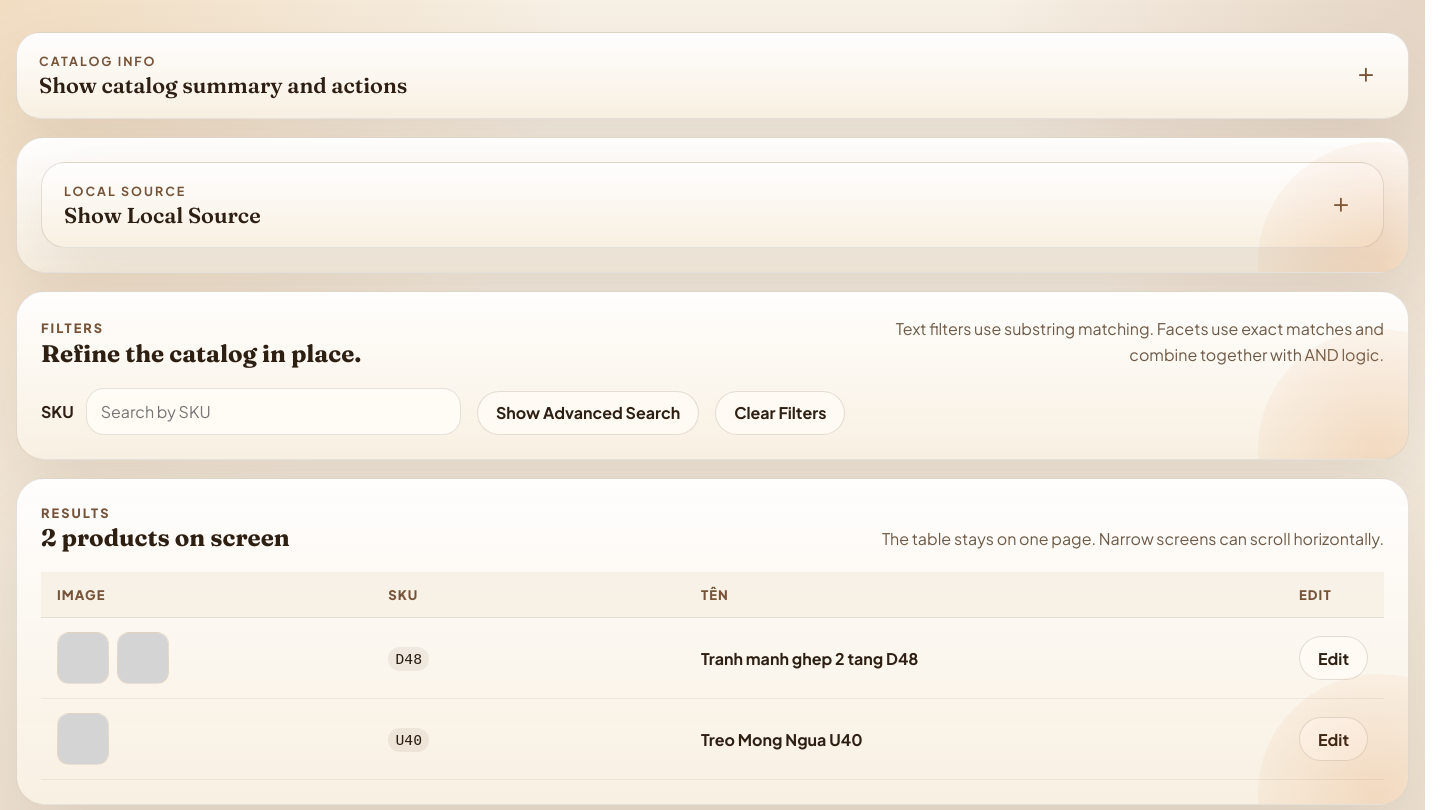
Test: App › opens the row editor, shows image thumbnails beside each URL, and saves the edited product back into the table
This screenshot has width=1440, height=810.
Click the button "Local Source Show Local Source +" at (125, 191), box [41,162,1384,248]
(page scrolled)
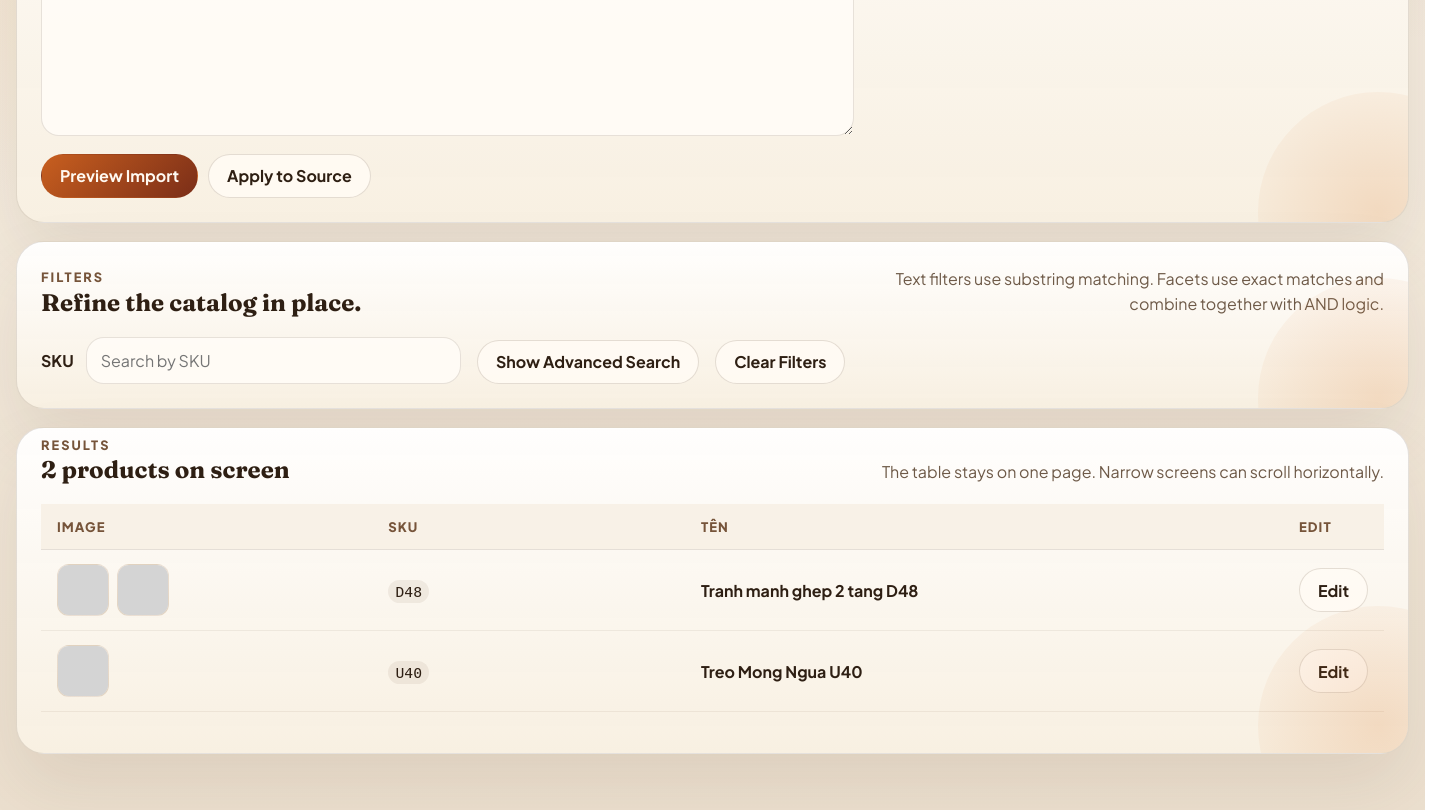
Click the button with aria-label "Edit product D48" at (1334, 590), box [1299,568,1368,612]
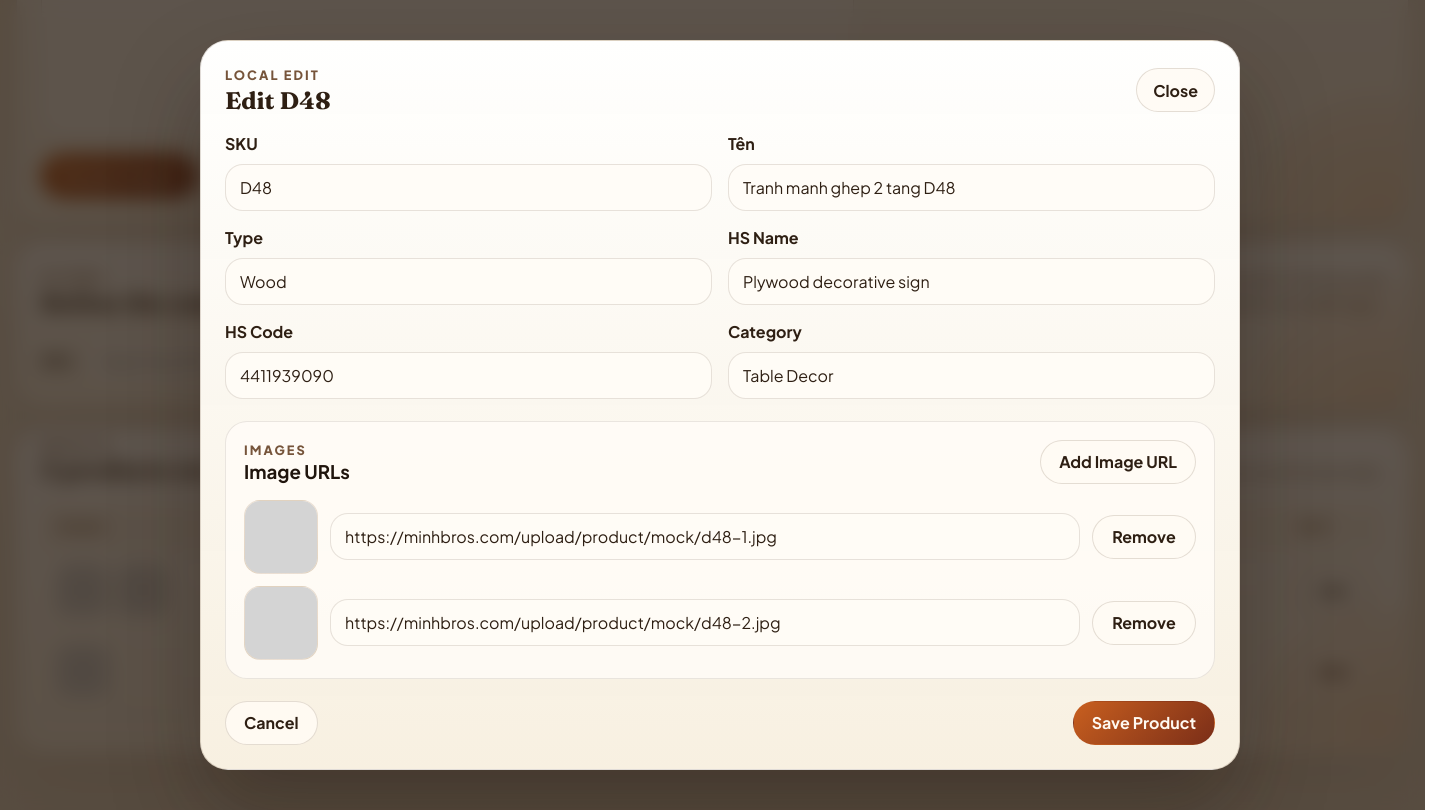
Result: the dialog named "edit tranh manh ghep 2 tang d48" is shown
Replace the text in the field labelled "SKU" with "D48-UPDATED" at (468, 187), box [225,164,712,211]
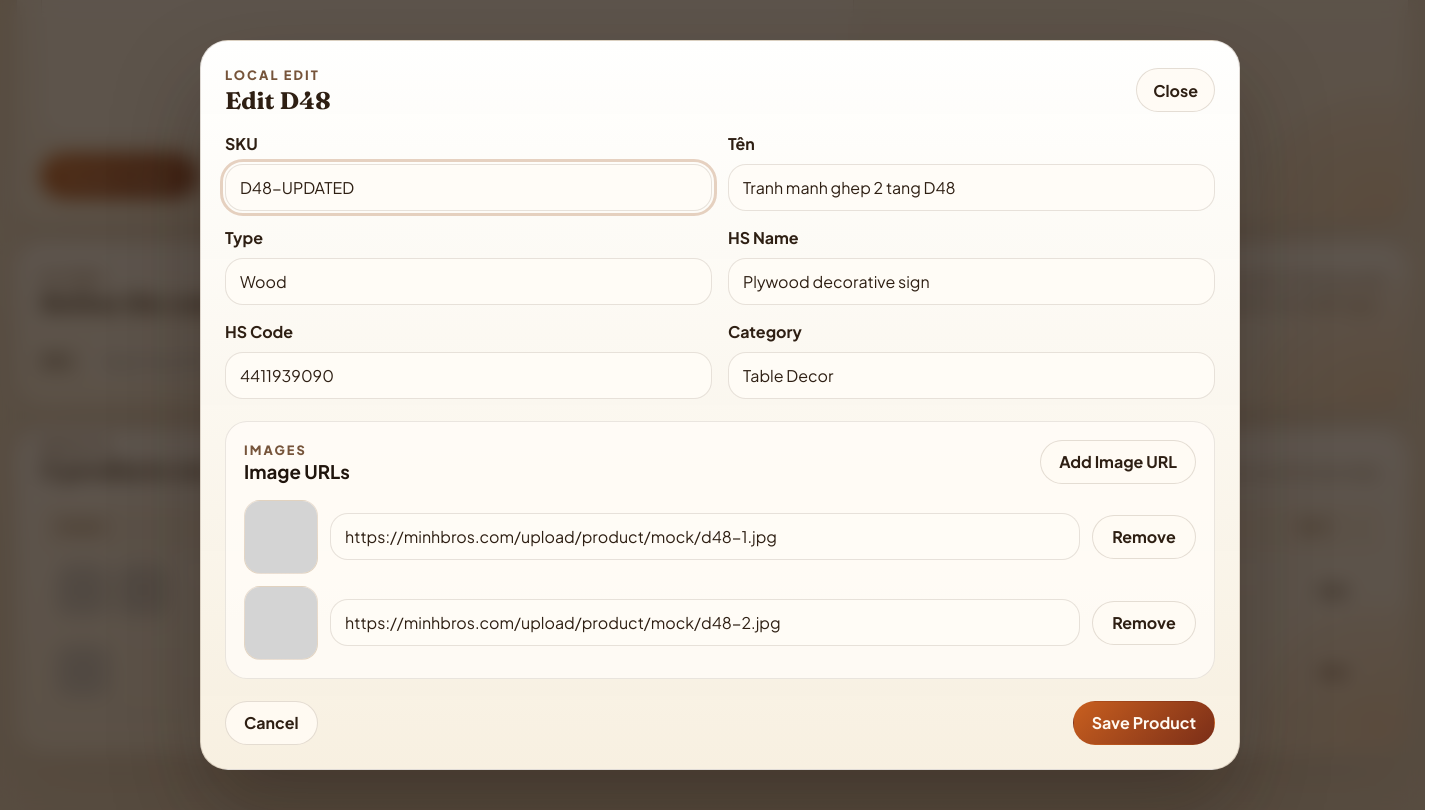
Replace the text in the field labelled "Tên" with "Edited D48 Product" at (972, 187), box [728,164,1215,211]
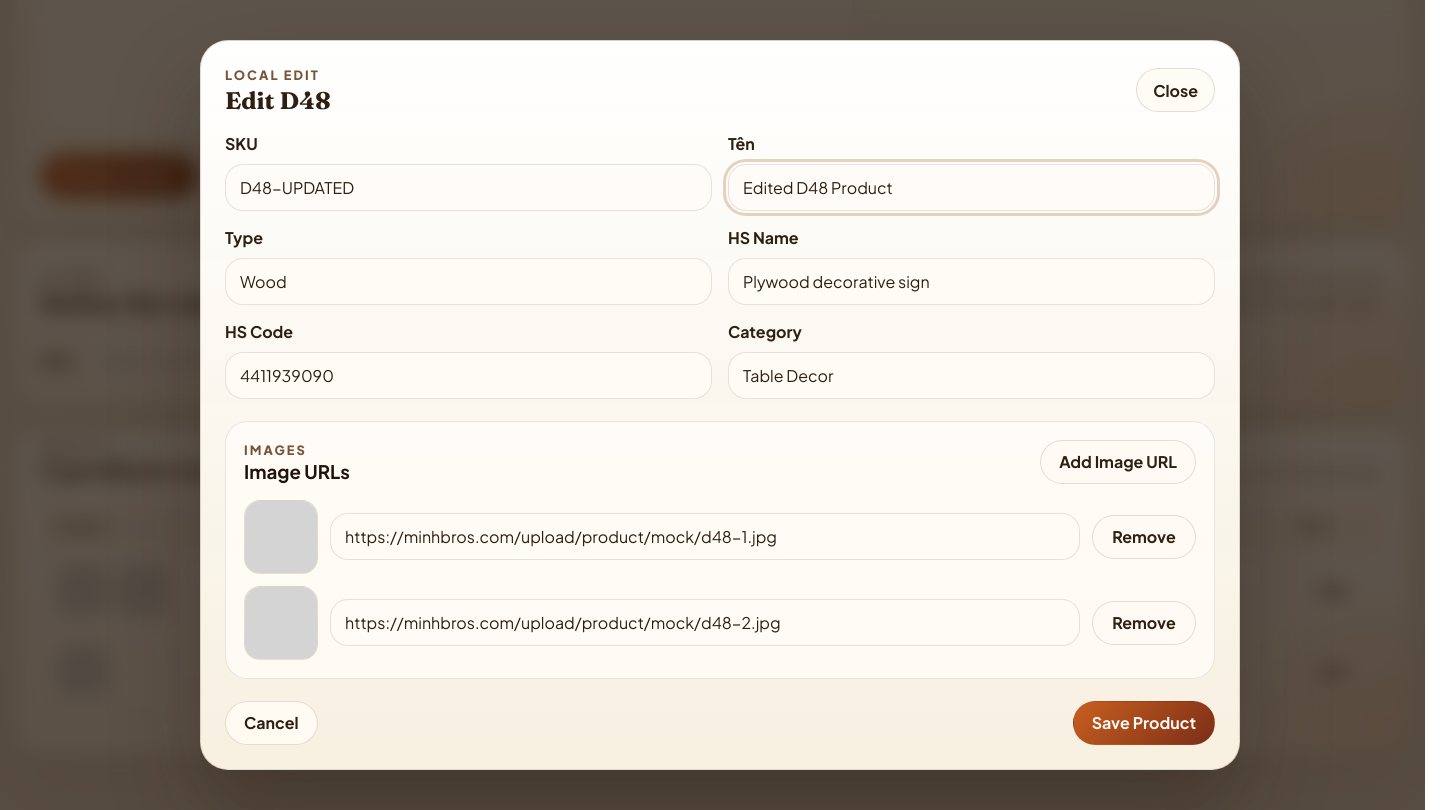
Replace the text in the field named "Image URL 1" with "https://minhbros.com/upload/product/mock/d48-edited-1.jpg" at (705, 537), box [330,513,1080,560]
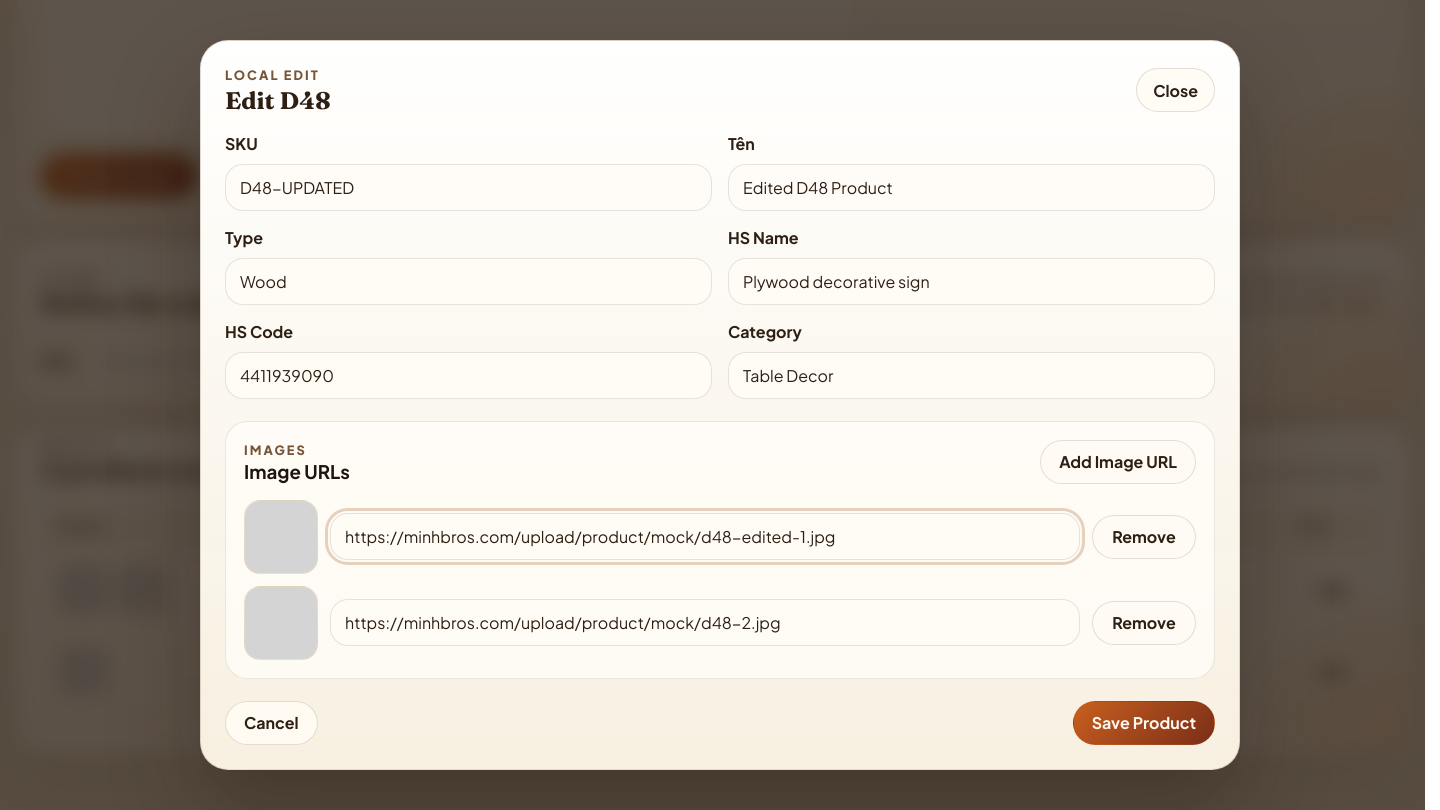
Click the button "Save Product" at (1144, 723), box [1073,701,1215,745]
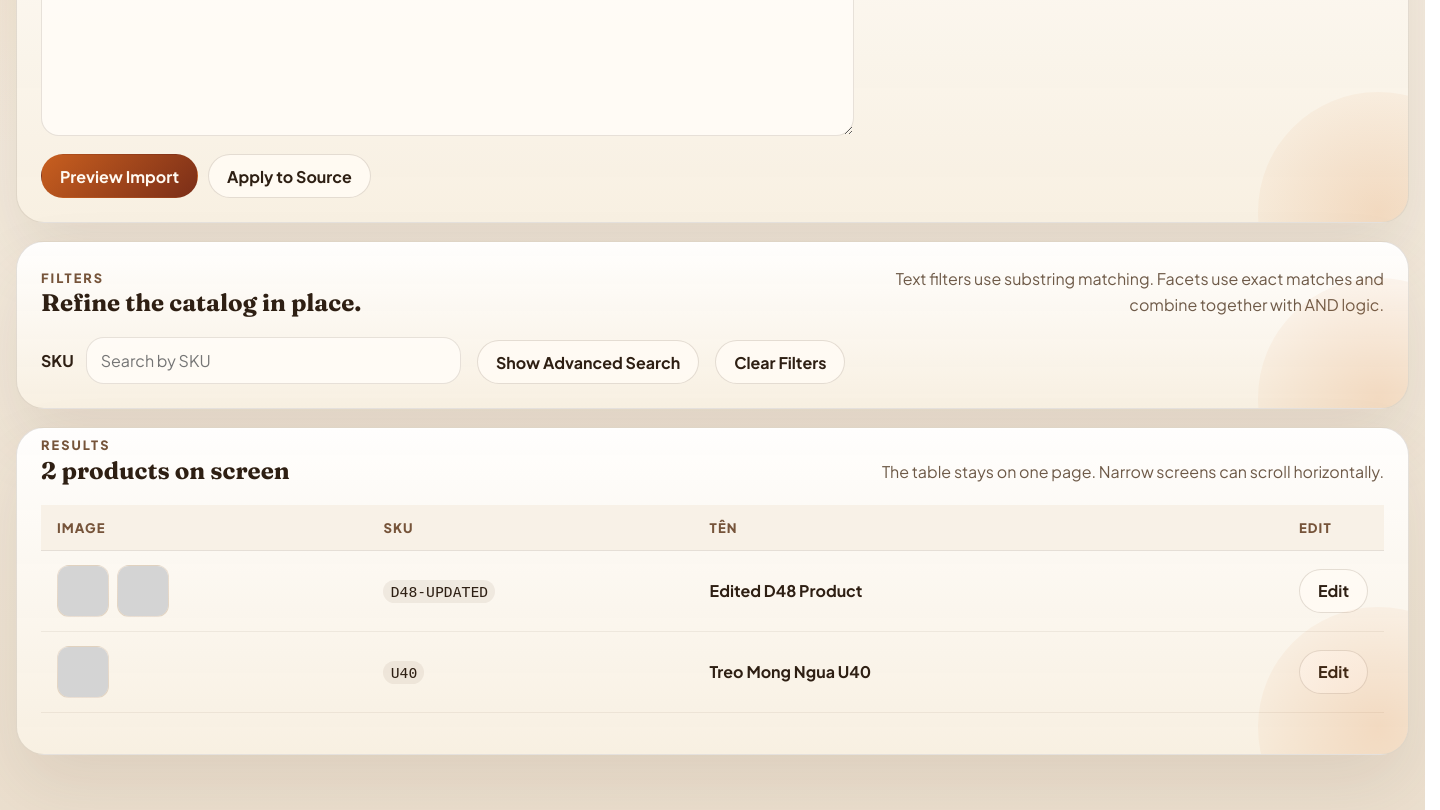
Result: the text "Edited D48 Product" is shown at [694,550,1283,631]
Result: the text "D48-UPDATED" is shown at [384,580,495,604]
